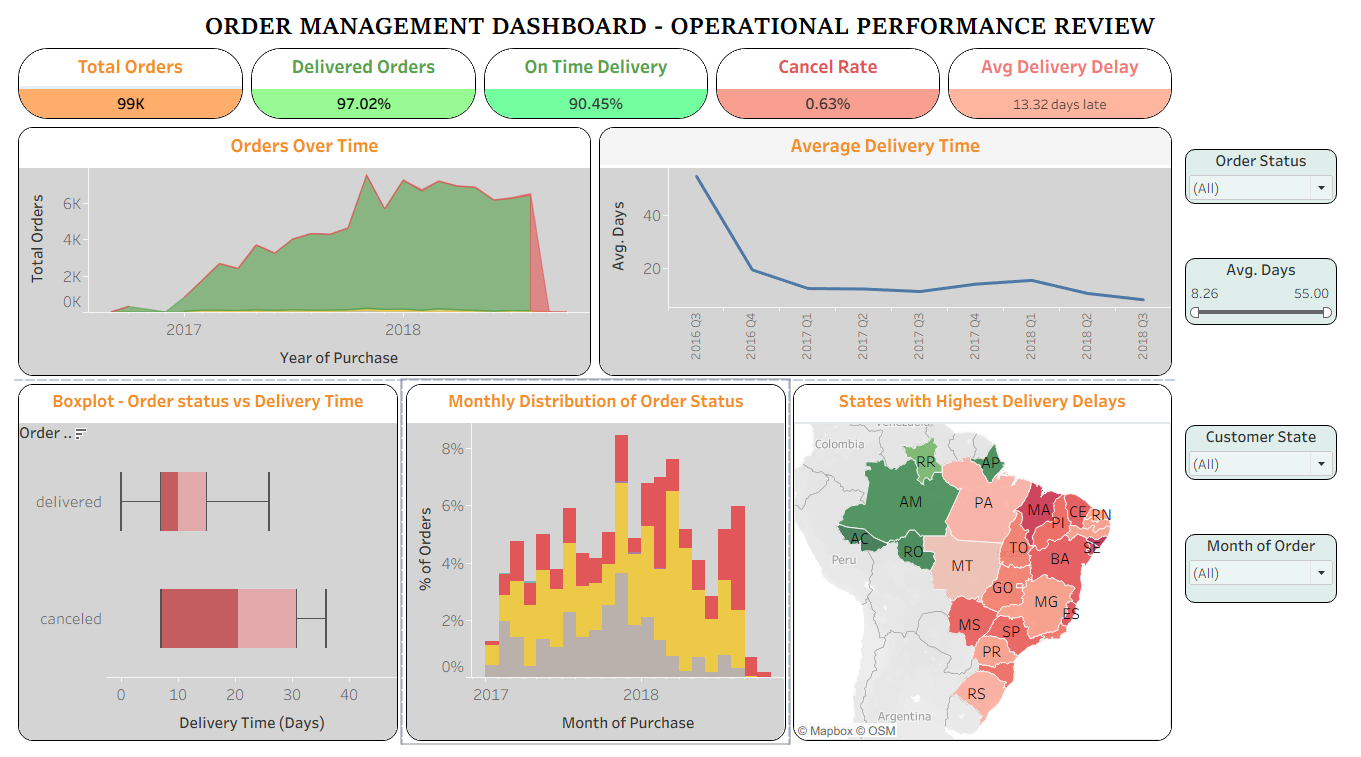

What the dashboard file says about the page in this screenshot:
{"tool":"tableau","page":{"name":"Dashboard 1","canvas":[1366,768],"ordinal":0},"visuals":[{"type":"title","box":[17,17,1332,33]},{"type":"worksheet","title":"Total Orders","mark":"Automatic","box":[17,50,233,79]},{"type":"worksheet","title":"Delivered Orders","mark":"Automatic","box":[250,50,233,79]},{"type":"worksheet","title":"On Time","mark":"Automatic","box":[483,50,232,79]},{"type":"worksheet","title":"Cancellation Rate","mark":"Automatic","box":[715,50,232,79]},{"type":"worksheet","title":"Average Delivery Delay","mark":"Automatic","box":[947,50,232,79]},{"type":"filter","title":"Orders Over Time","param":"[federated.1fl9bug02wtby516u96090xlcwx5].[none:order_status:nk]","box":[1184,55,160,205]},{"type":"worksheet","title":"Orders Over Time","mark":"Area","rows":["order_id"],"cols":["order_purchase_timestamp"],"box":[17,129,581,257]},{"type":"worksheet","title":"Delivery Time Trend","mark":"Line","rows":["Calculation_0179556292829188"],"cols":["order_purchase_timestamp"],"box":[598,129,581,257]},{"type":"filter","title":"Delivery Time Trend","param":"[federated.1fl9bug02wtby516u96090xlcwx5].[avg:Calculation_0179556292829188:qk]","box":[1184,260,160,121]},{"type":"filter","title":"Average Delivery Delay by State","param":"[federated.1fl9bug02wtby516u96090xlcwx5].[none:customer_state:nk]","box":[1184,381,160,155]},{"type":"worksheet","title":"Order Status vs delivery Time","mark":"Automatic","rows":["order_status"],"cols":["Calculation_0179556292124674"],"box":[17,385.7,387.6,365.3]},{"type":"worksheet","title":"Monthly Distribution Of Order Status","mark":"Bar","rows":["order_id"],"cols":["order_purchase_timestamp"],"box":[404.6,385.7,387.8,365.3]},{"type":"worksheet","title":"Average Delivery Delay by State","mark":"Multipolygon","box":[792.3,385.7,386.7,365.3]},{"type":"filter","title":"Monthly Distribution Of Order Status","param":"[federated.1fl9bug02wtby516u96090xlcwx5].[my:order_purchase_timestamp:ok]","box":[1184,536,160,77]}]}

Visuals, with their boxes in screenshot pixels (x1, y1, x2, y2), scaled from the page's 1366x768 canvas onto the 1361x757 screenshot:
title: (17,17,1344,49)
"Total Orders" worksheet: (17,49,249,127)
"Delivered Orders" worksheet: (249,49,481,127)
"On Time" worksheet: (481,49,712,127)
"Cancellation Rate" worksheet: (712,49,944,127)
"Average Delivery Delay" worksheet: (944,49,1175,127)
"Orders Over Time" filter: (1180,54,1339,256)
"Orders Over Time" worksheet (Area marks): (17,127,596,380)
"Delivery Time Trend" worksheet (Line marks): (596,127,1175,380)
"Delivery Time Trend" filter: (1180,256,1339,376)
"Average Delivery Delay by State" filter: (1180,376,1339,528)
"Order Status vs delivery Time" worksheet: (17,380,403,740)
"Monthly Distribution Of Order Status" worksheet (Bar marks): (403,380,789,740)
"Average Delivery Delay by State" worksheet (Multipolygon marks): (789,380,1175,740)
"Monthly Distribution Of Order Status" filter: (1180,528,1339,604)
